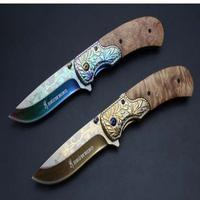knife: (5, 11, 187, 192)
